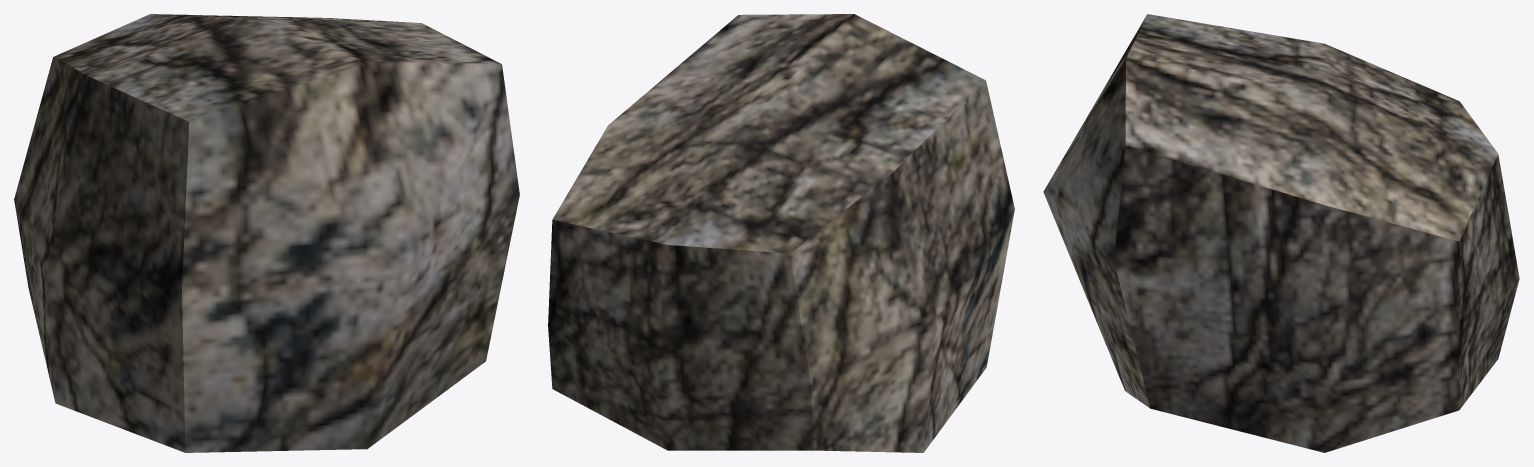
File: Rock 3.fbx
3 views of the same model, side by side, from view 1: azimuth 30°, elevation 25°; view 2: azimuth 150°, elevation 25°; view 3: azimuth 270°, elevation 25° (orthographic). The views are drawn at different scales.
Parts seen in each view (by area): view 1: Cube.012; view 2: Cube.012; view 3: Cube.012.
Part boxes in pixels (bbox=[...]): Cube.012: bbox=[14, 14, 519, 452]; Cube.012: bbox=[548, 14, 1014, 452]; Cube.012: bbox=[1043, 14, 1519, 452].
Bounding box in the file's own units: 1352 × 1073 × 1134.
